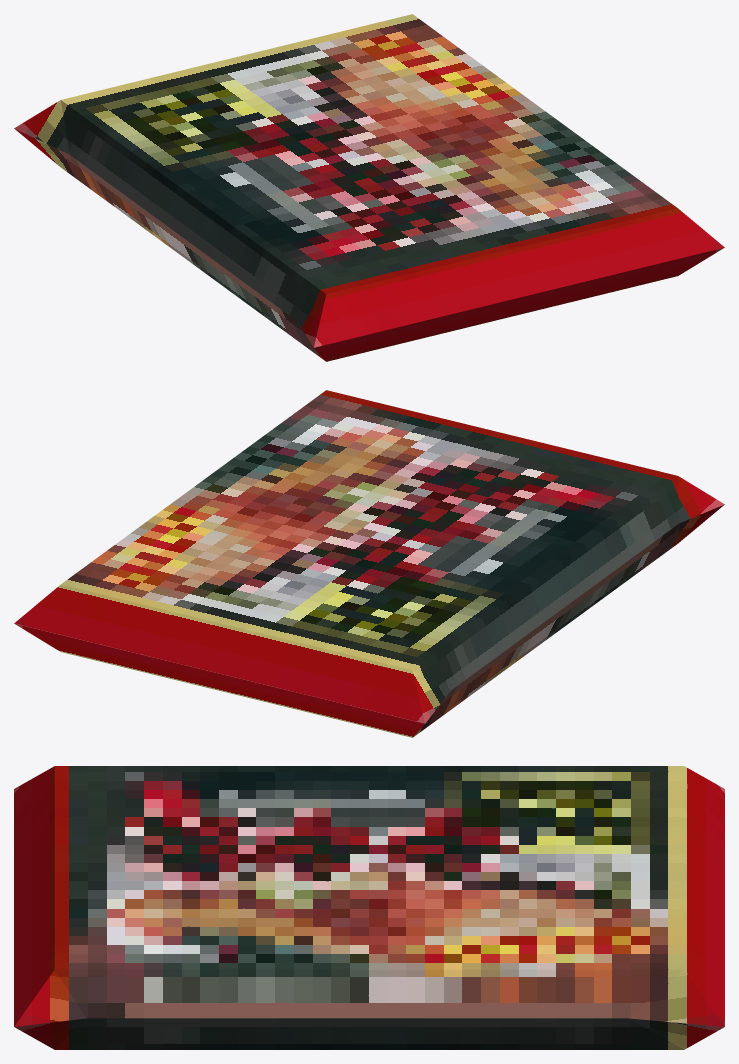
Rendered from Ramen003.glb.
3 renders of one model, top to bottom at view 1: azimuth 30°, elevation 25°; view 2: azimuth 150°, elevation 25°; view 3: azimuth 270°, elevation 25°, orthographic. The views are drawn at different scales.
Parts seen in each view (by area): view 1: ramen.003; view 2: ramen.003; view 3: ramen.003.
Boxes of the visible parts, left/top/right/bottom form: ramen.003: left=14, top=14, right=724, bottom=361; ramen.003: left=14, top=390, right=724, bottom=737; ramen.003: left=14, top=766, right=724, bottom=1049.
Bounding box in the file's own units: 0.1274 × 0.02 × 0.1609.
Materials: 1 (1 with a texture image).
